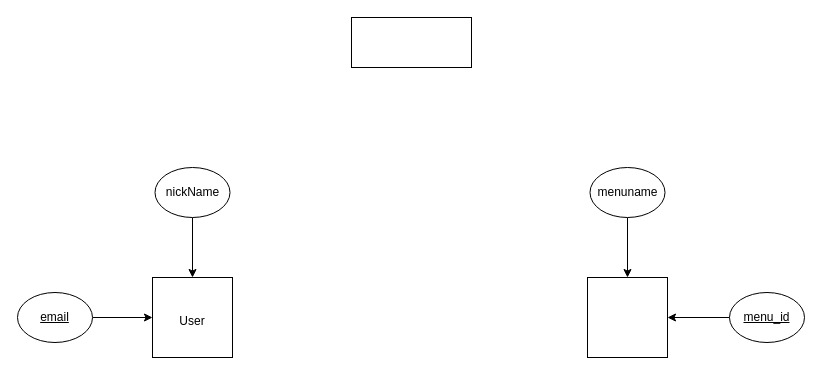
Some shapes in this 822 by 383 pixel diagram are drawn without their labels. The shapes that lost their labels are listed below. From the top down, each one's centre as x and y in pixels, then its label:
At point (411, 42): "ERD".
At point (627, 317): "Menu".
